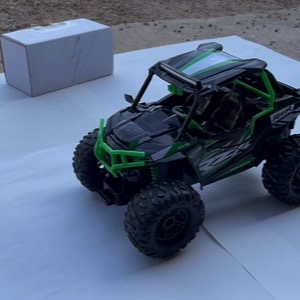polaris: (70, 36, 297, 262)
